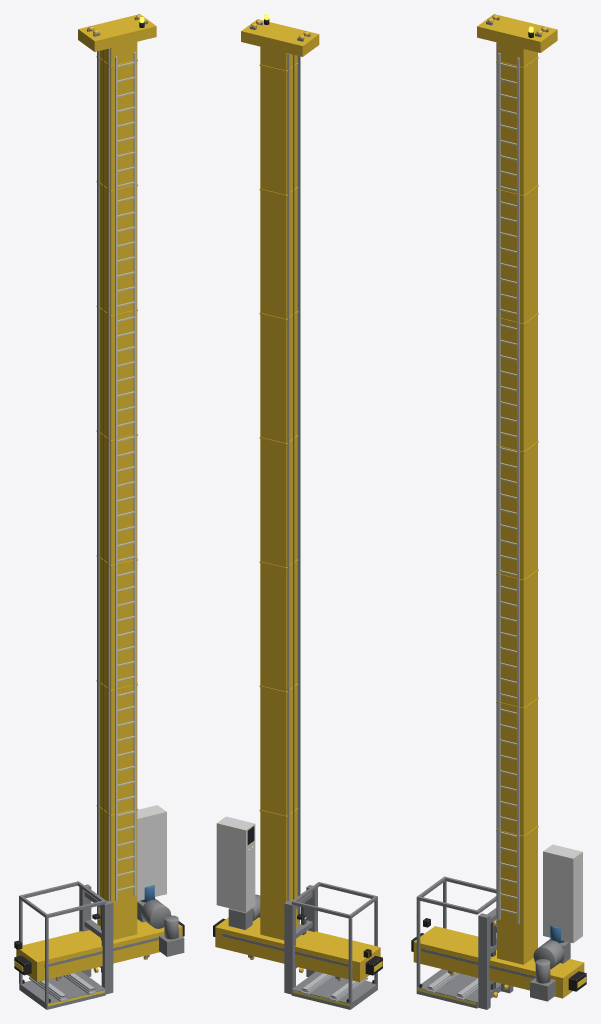
File: stackercrane_crane.glb
3 renders of one model, left to right at view 1: azimuth 30°, elevation 25°; view 2: azimuth 150°, elevation 25°; view 3: azimuth 330°, elevation 25°, orthographic. The views are drawn at different scales.
Visible parts, largest first — view 1: Frame, CarriageBody; view 2: Frame, CarriageBody; view 3: Frame, CarriageBody.
Boxes of the visible parts, left/top/right/bottom form: Frame: left=14, top=14, right=184, bottom=981; CarriageBody: left=19, top=881, right=113, bottom=1009; Frame: left=213, top=14, right=382, bottom=982; CarriageBody: left=284, top=882, right=377, bottom=1009; Frame: left=411, top=14, right=586, bottom=1001; CarriageBody: left=416, top=876, right=513, bottom=1009.
Size of the model in its own units: 3.39 by 19.24 by 1.27.
